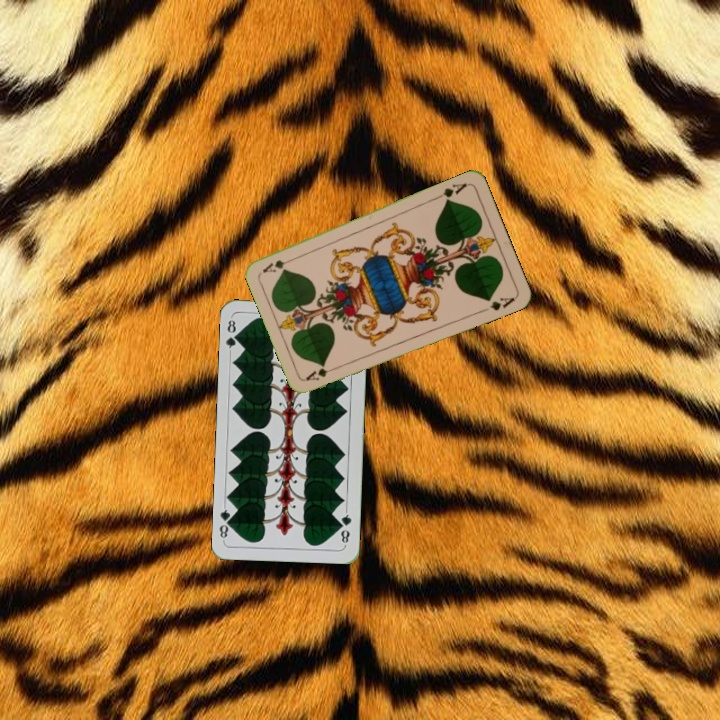G8: (222, 316, 242, 355), (336, 507, 354, 548)
GA: (432, 179, 469, 205), (302, 362, 341, 383)
